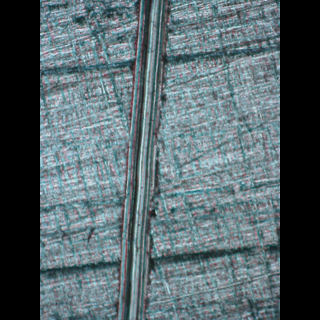d: (114, 0, 178, 318)
